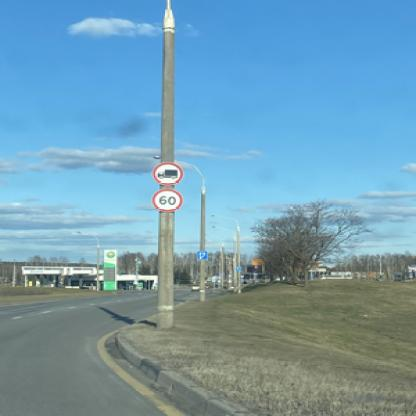Speed Limit 60: (153, 188, 182, 212)
